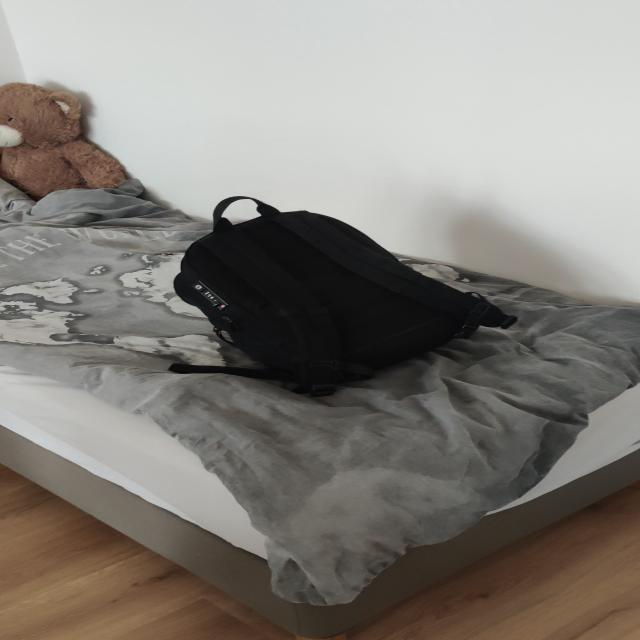backpack: (159, 197, 506, 395)
